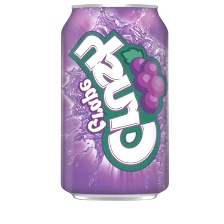can: (50, 1, 172, 206)
